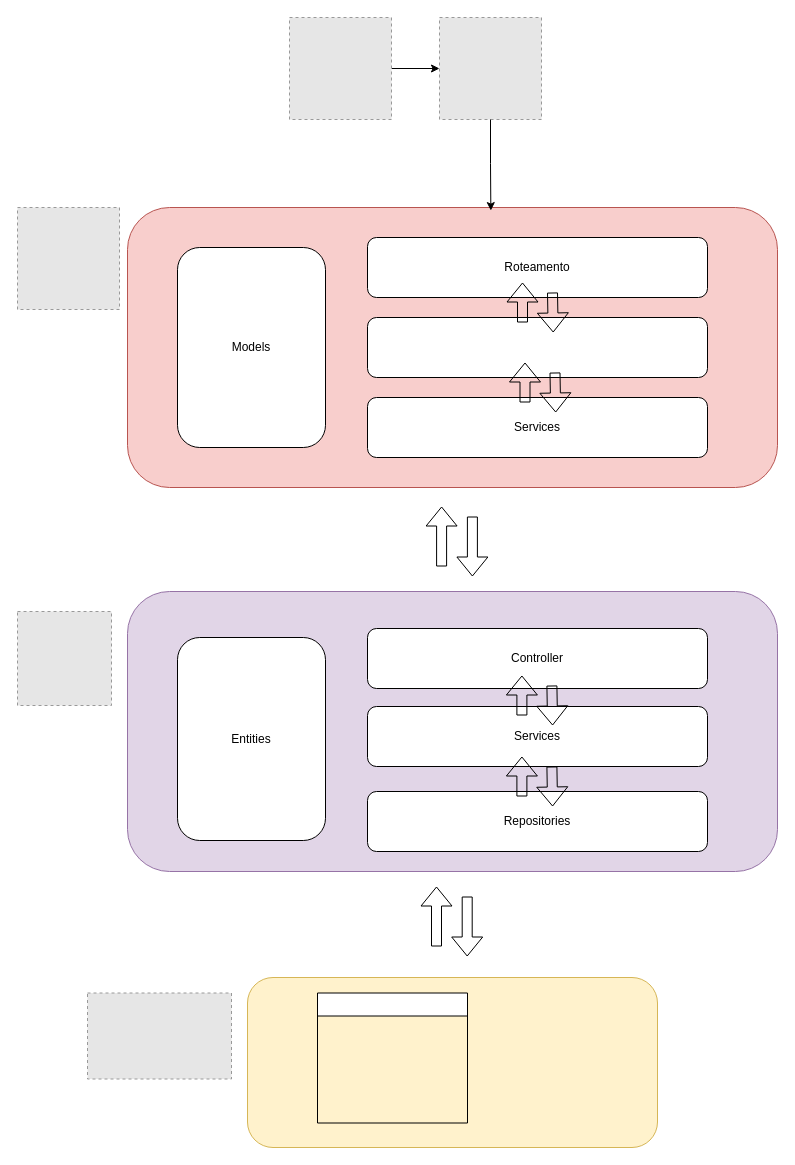
Some shapes in this 795 by 1165 pixel diagram are drawn without their labels. Grey dashed boxes stand in for pictures. Here are the shapes that lost their labels. From the top down, the centre of each, then its label:
At [537,347]: "Compontens".
At [392,1057]: "Pessoa".
